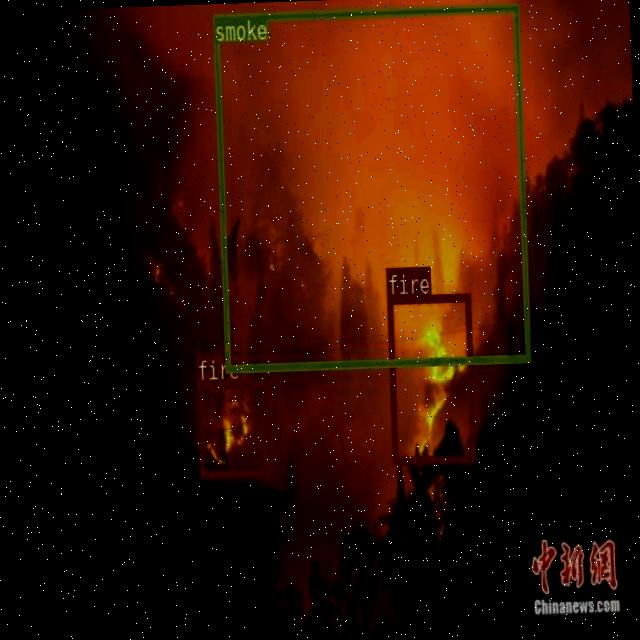fire: (386, 292, 474, 463), (196, 379, 270, 476)
smoke: (212, 2, 530, 371)
